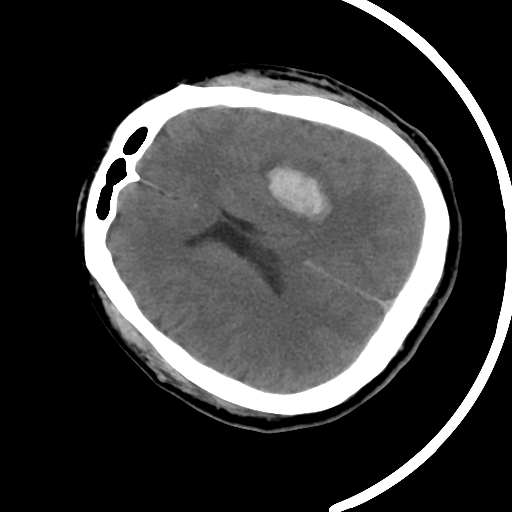a: (245, 147, 350, 238)
